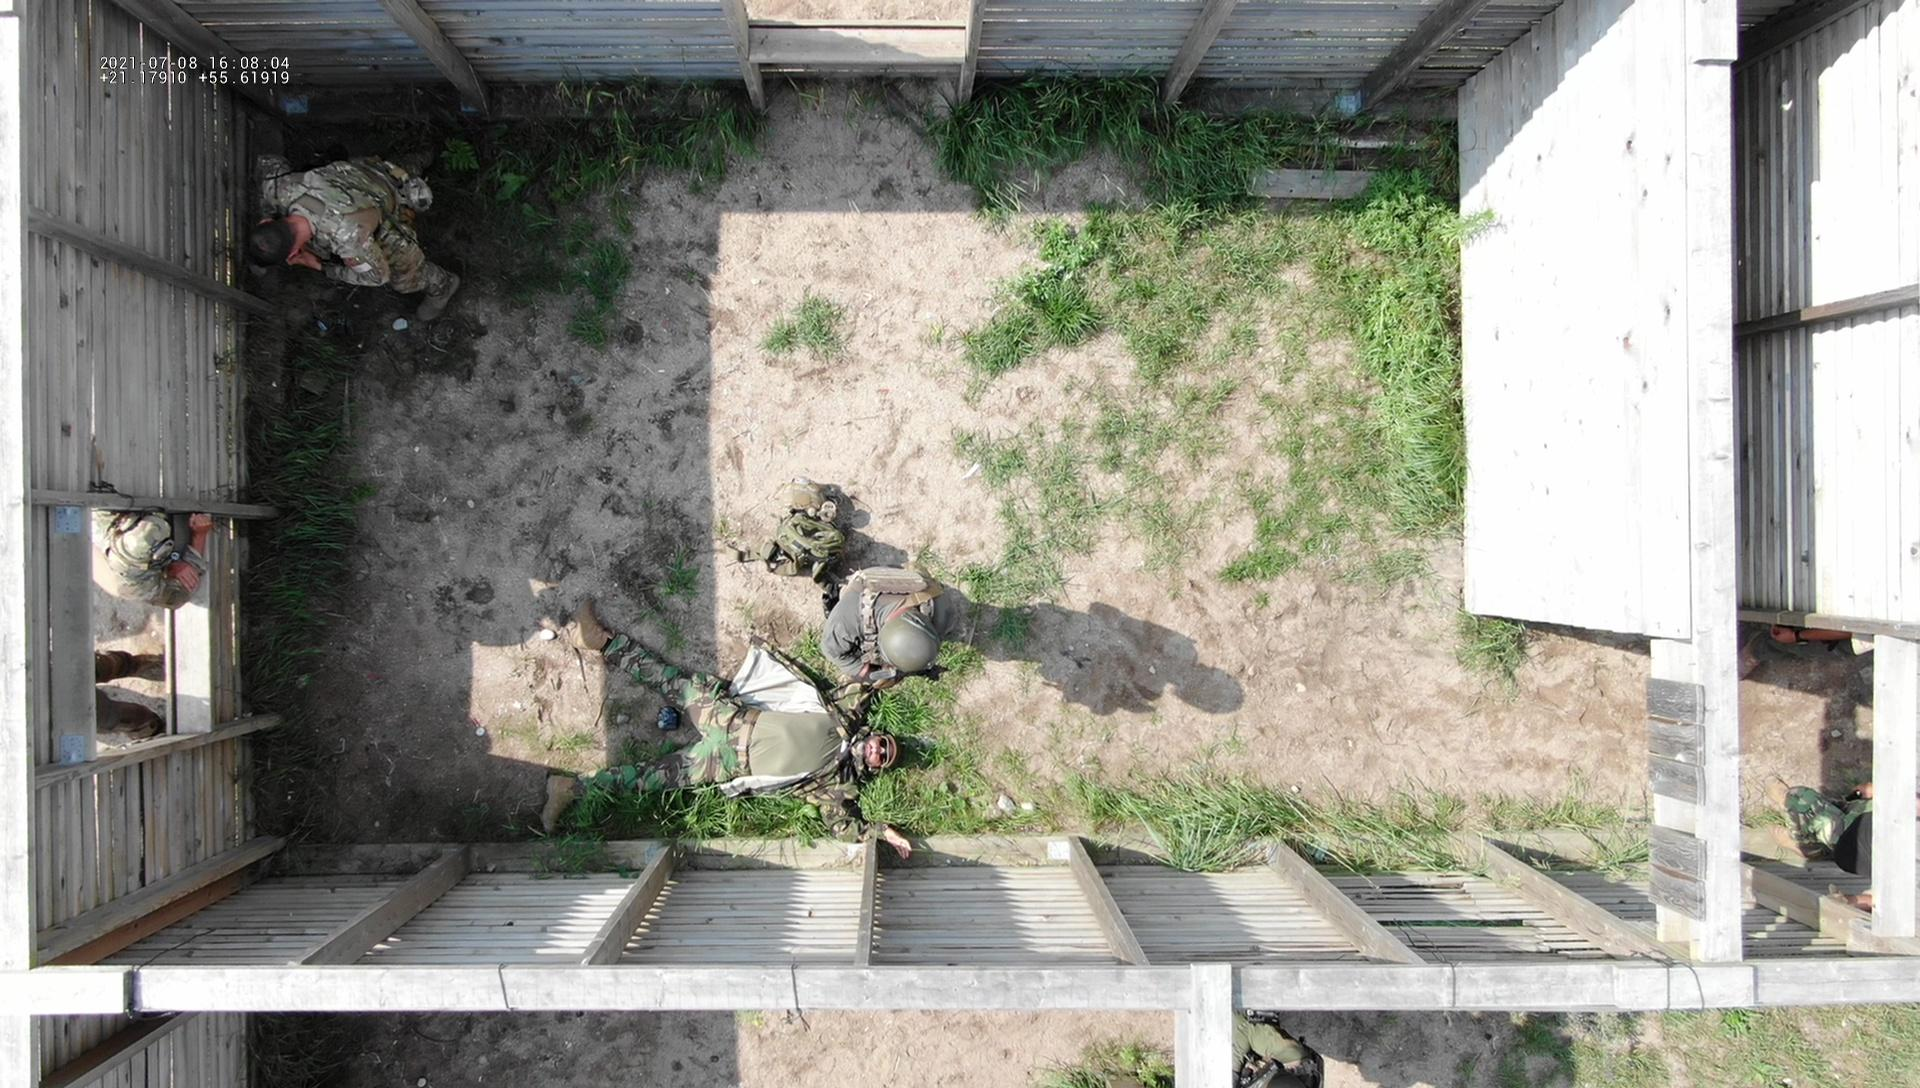Soldier: (541, 595, 901, 845), (243, 150, 462, 324), (820, 566, 940, 691), (91, 510, 214, 612)
